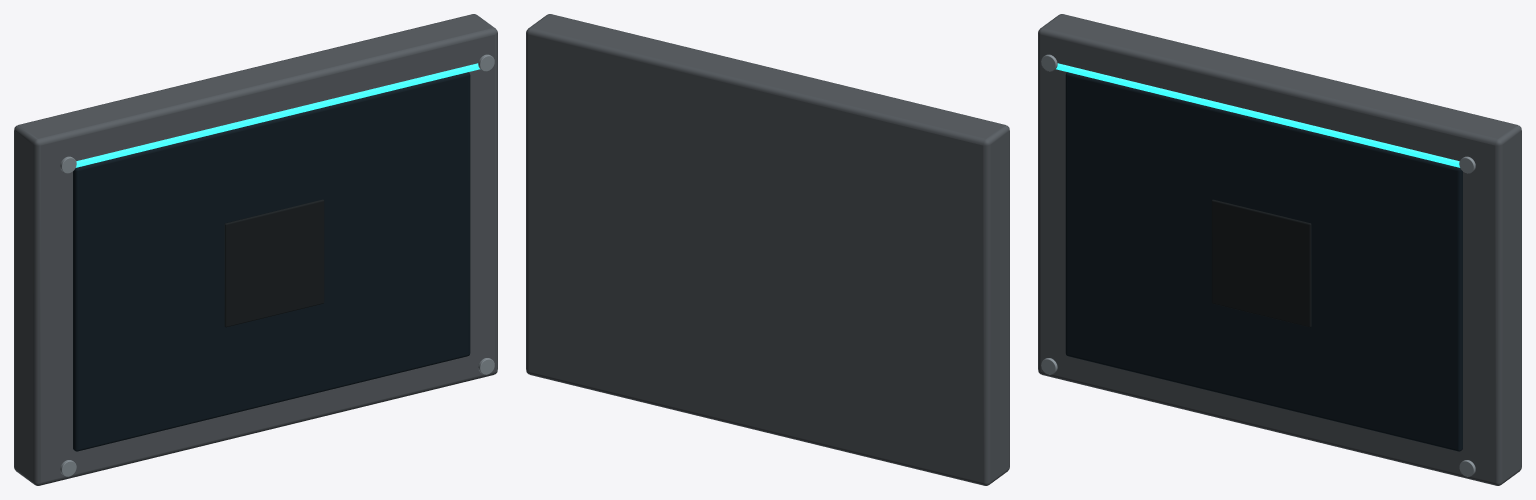
3 views of the same model, side by side, from view 1: azimuth 30°, elevation 25°; view 2: azimuth 150°, elevation 25°; view 3: azimuth 330°, elevation 25° (orthographic).
Parts seen in each view (by area): view 1: T2_DELIVERED_MODULE; view 2: T2_DELIVERED_MODULE; view 3: T2_DELIVERED_MODULE.
Boxes of the visible parts, x1,y1,x2,y2 form: T2_DELIVERED_MODULE: (14,14,497,485); T2_DELIVERED_MODULE: (526,14,1009,485); T2_DELIVERED_MODULE: (1038,14,1521,485).
Size of the model in its own units: 1.12 by 0.8 by 0.144.
